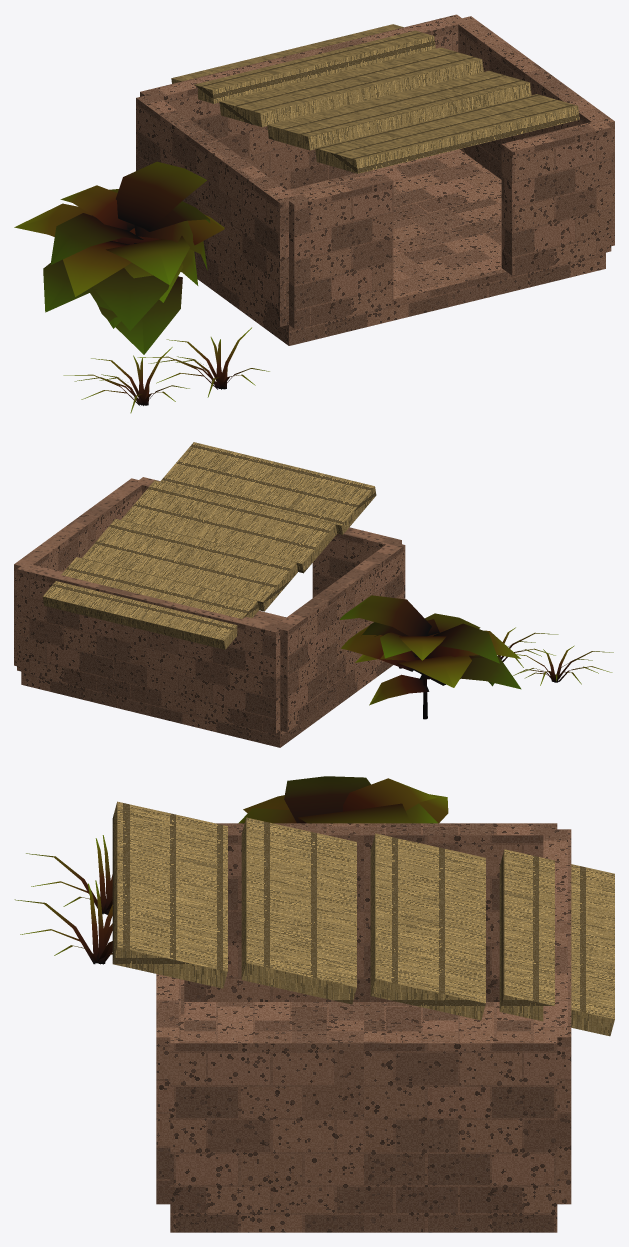
File: pigsty_01.glb
The picture shows the model from 3 angles, top to bottom: view 1: azimuth 30°, elevation 25°; view 2: azimuth 150°, elevation 25°; view 3: azimuth 270°, elevation 25°; orthographic projection. The views are drawn at different scales.
Visible parts, largest first — view 1: pigsty_01, pigsty_01_veg_00_bush_c, pigsty_01_veg_02_grass_tuft_b, pigsty_01_veg_01_grass_tuft_b; view 2: pigsty_01, pigsty_01_veg_00_bush_c, pigsty_01_veg_01_grass_tuft_b; view 3: pigsty_01, pigsty_01_veg_00_bush_c, pigsty_01_veg_02_grass_tuft_b, pigsty_01_veg_01_grass_tuft_b.
Boxes of the visible parts, left/top/right/bottom form: pigsty_01: left=136, top=14, right=614, bottom=345; pigsty_01_veg_00_bush_c: left=14, top=161, right=224, bottom=354; pigsty_01_veg_02_grass_tuft_b: left=137, top=327, right=269, bottom=397; pigsty_01_veg_01_grass_tuft_b: left=63, top=347, right=189, bottom=413; pigsty_01: left=14, top=442, right=405, bottom=747; pigsty_01_veg_00_bush_c: left=340, top=595, right=521, bottom=719; pigsty_01_veg_01_grass_tuft_b: left=513, top=645, right=613, bottom=685; pigsty_01: left=112, top=801, right=614, bottom=1232; pigsty_01_veg_00_bush_c: left=238, top=776, right=448, bottom=823; pigsty_01_veg_02_grass_tuft_b: left=14, top=880, right=112, bottom=964; pigsty_01_veg_01_grass_tuft_b: left=26, top=835, right=112, bottom=914.
Size of the model in its own units: 4.98 by 1.6 by 3.43.
Materials: 4 (4 with a texture image).
